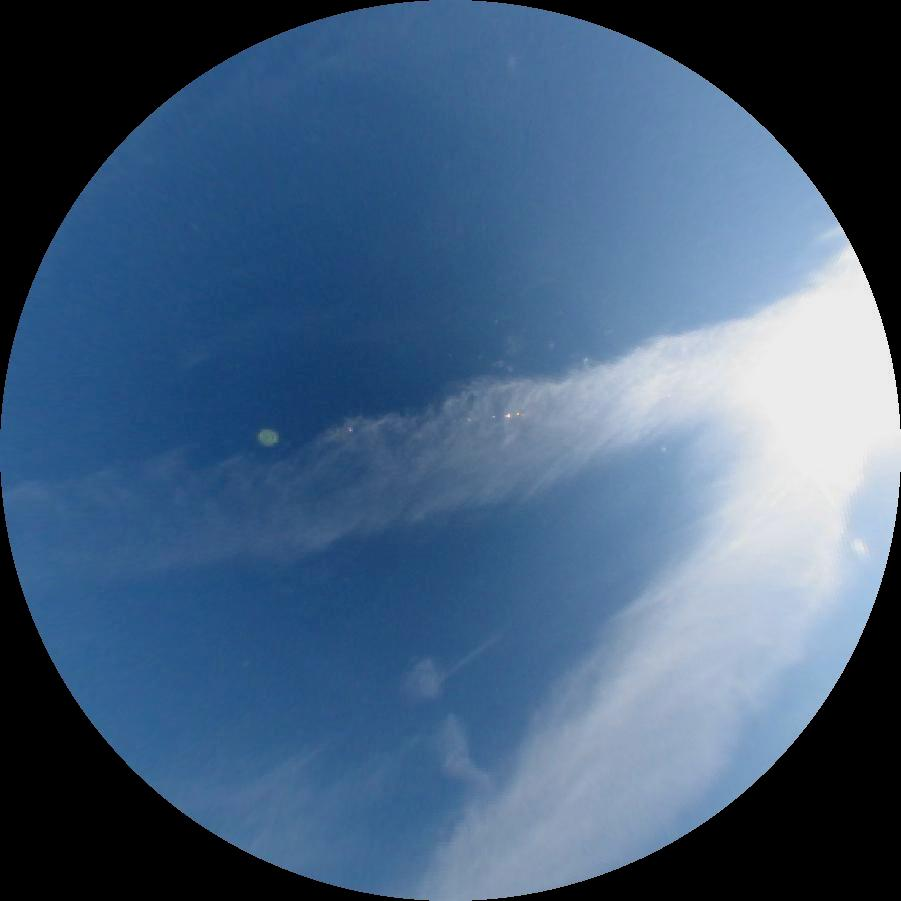contrail veryold: (0, 279, 859, 624), (394, 656, 499, 807)
unknow: (438, 633, 502, 680)
